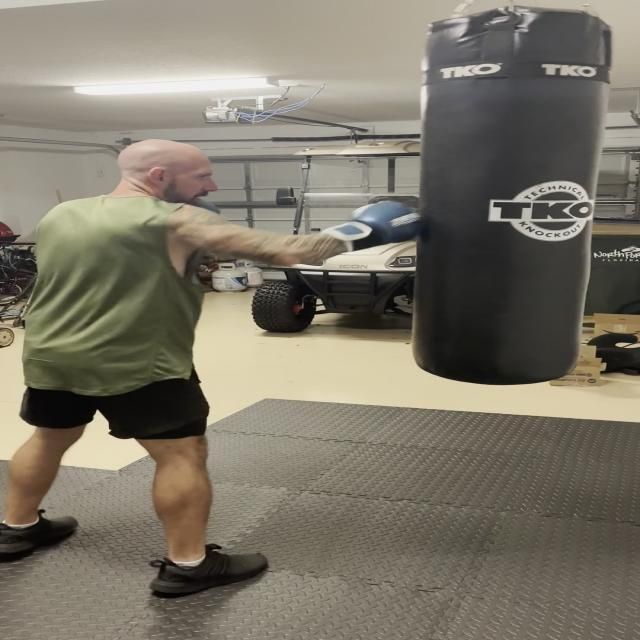punch: (23, 111, 451, 317)
